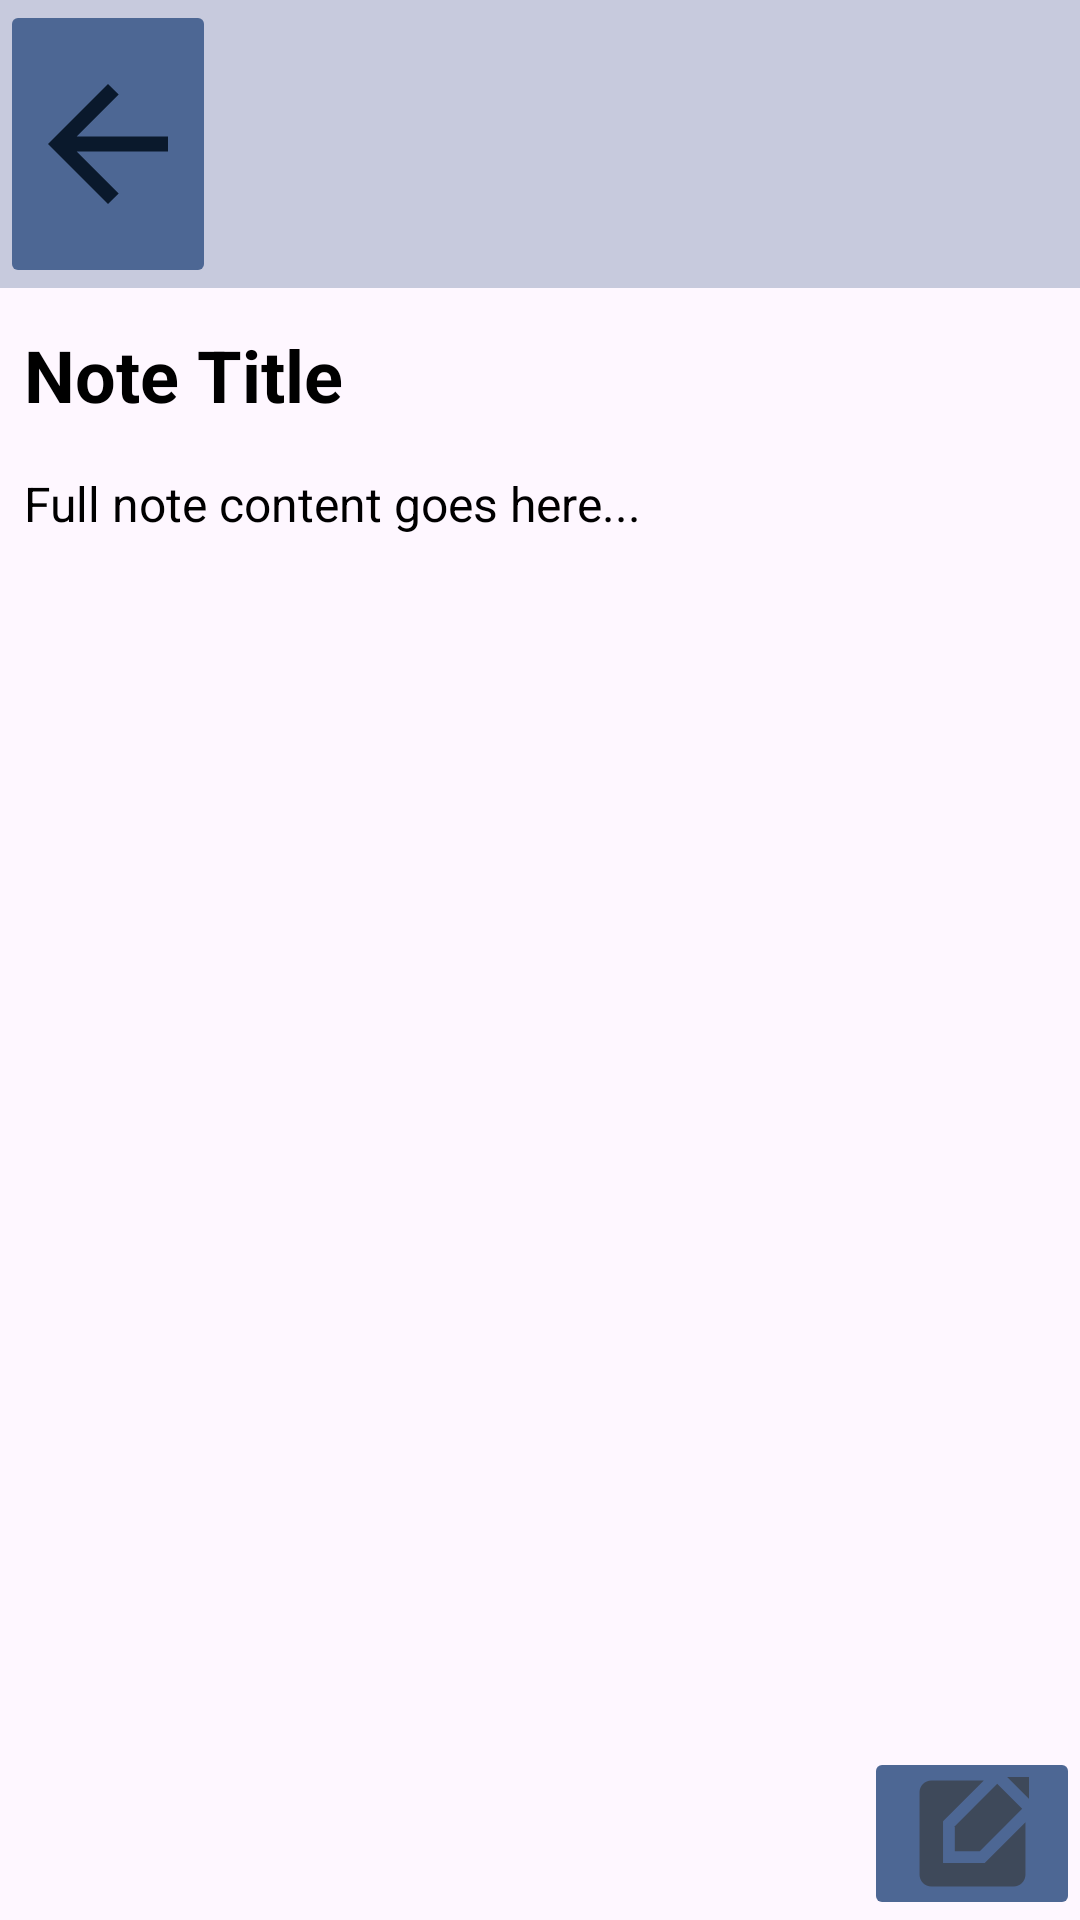

Where to tap for icons on this 1080*1920 app screen, as point (x, y):
back: point (108, 144)
Edit Note: point (972, 1833)
